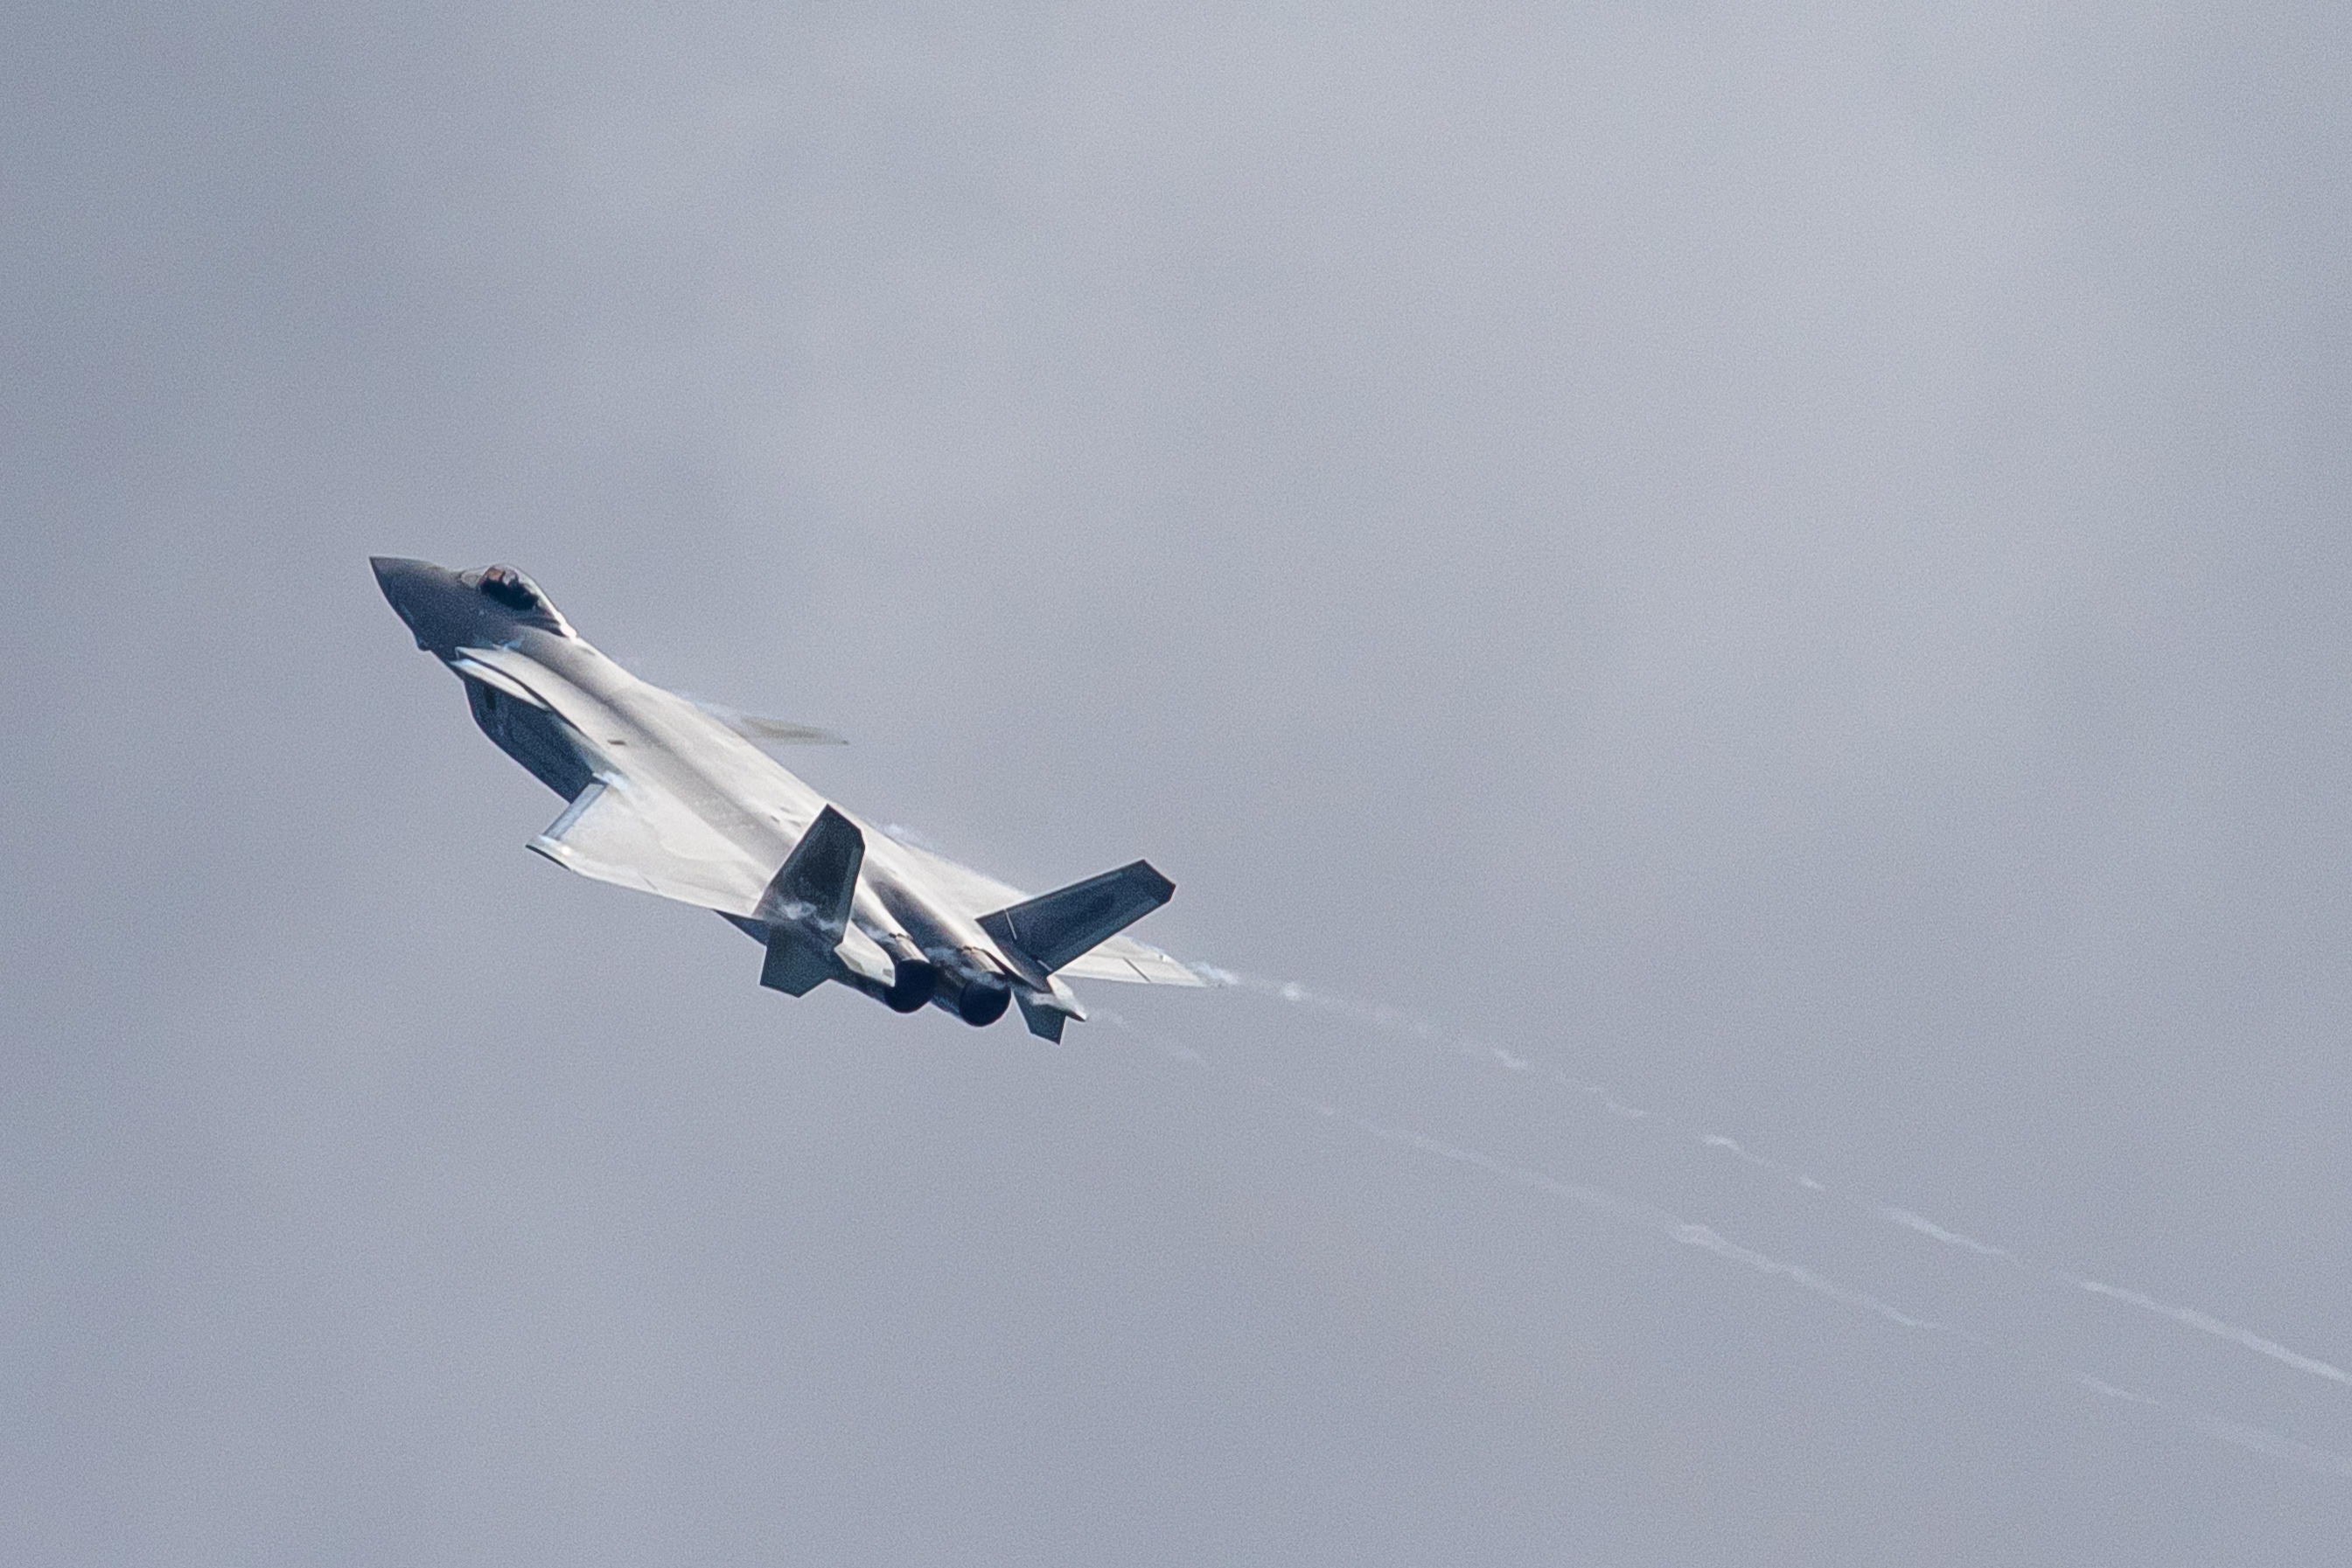J20: (367, 555, 1207, 1046)
